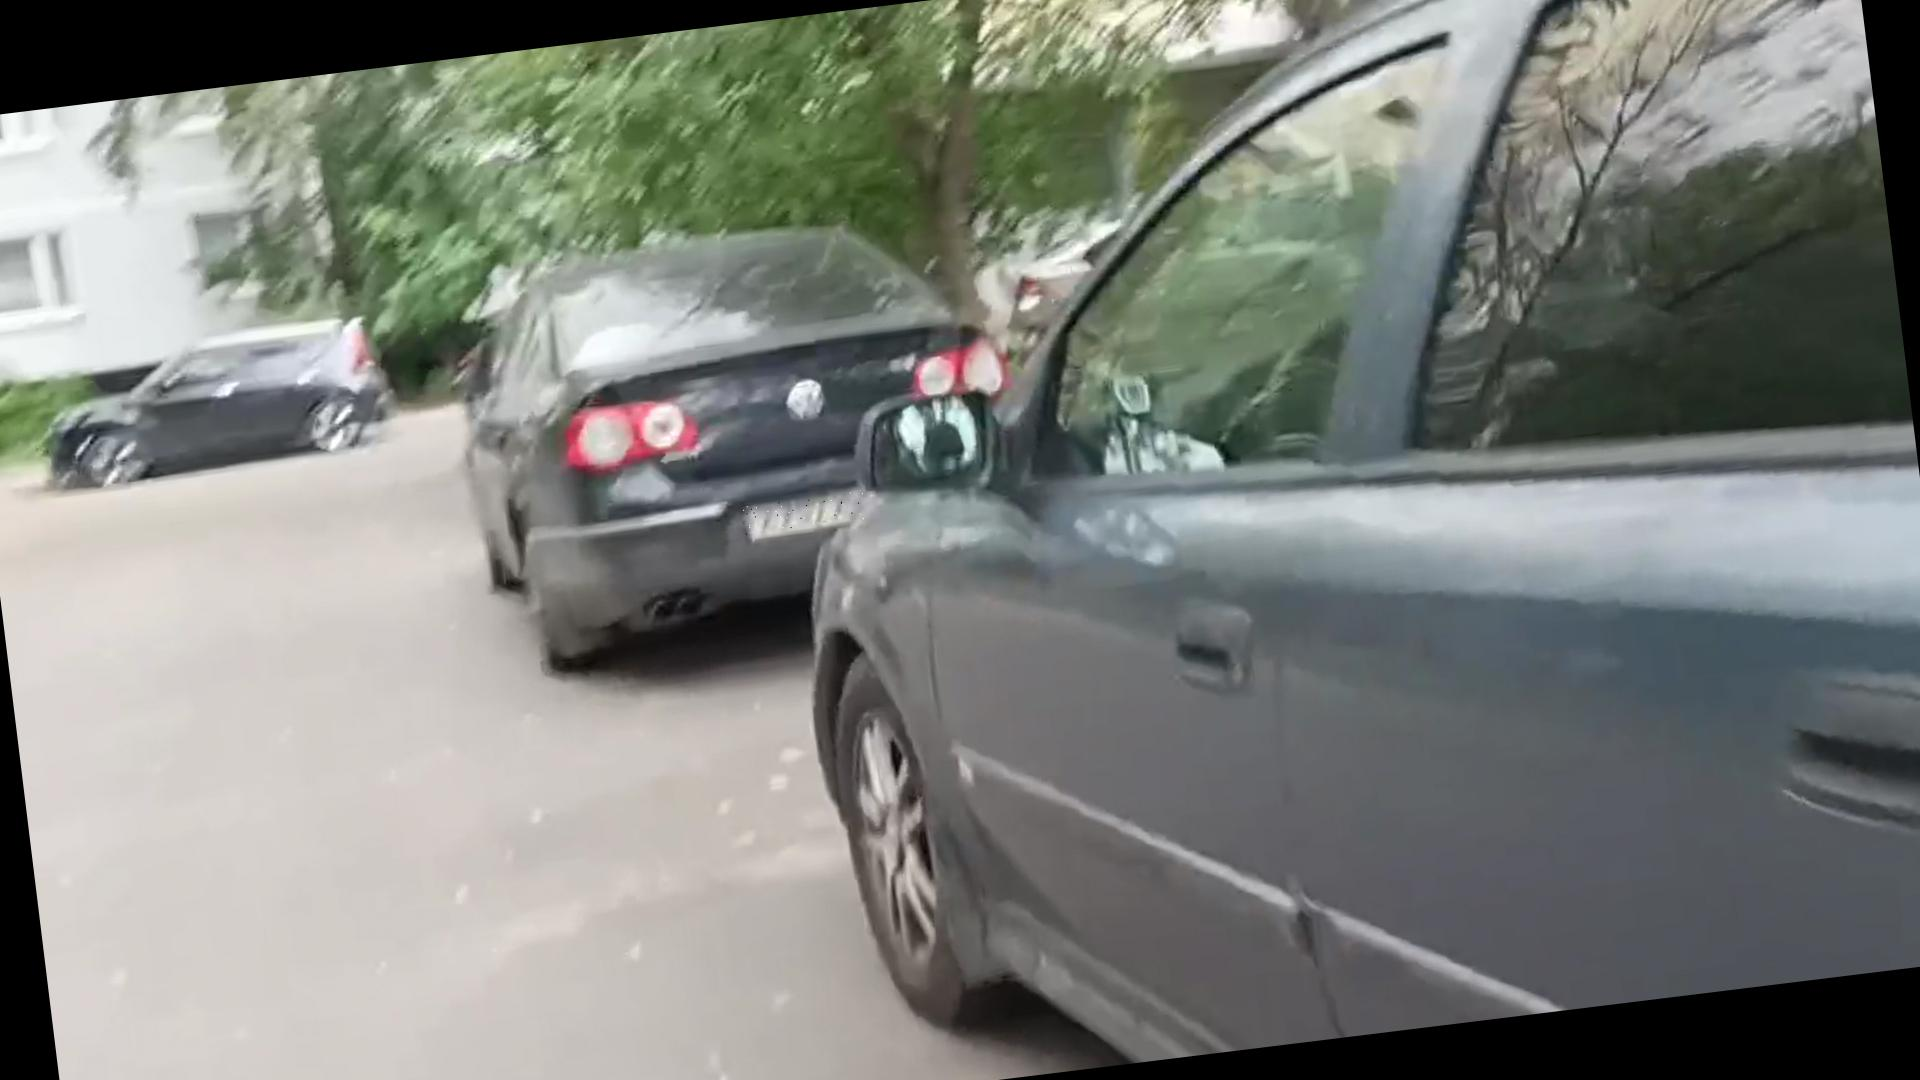plate: (737, 492, 868, 537)
